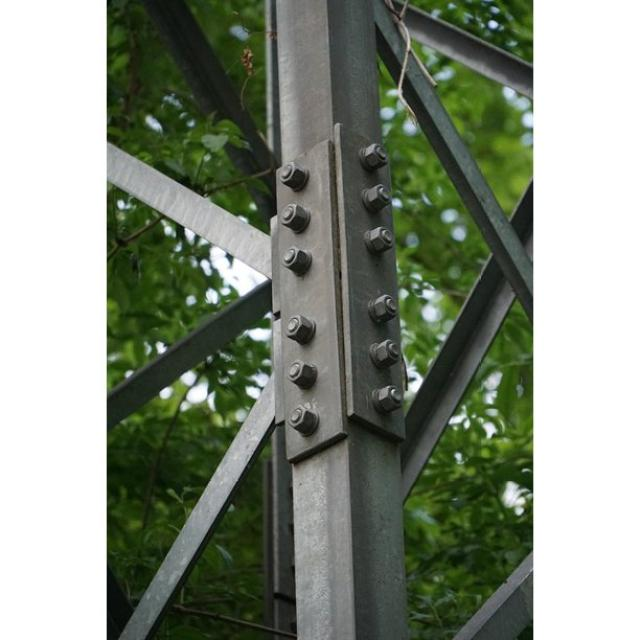bolt nut: (376, 382, 404, 412), (277, 160, 305, 189), (372, 293, 400, 322), (284, 358, 312, 387), (286, 404, 314, 433), (280, 203, 308, 231), (284, 315, 312, 342), (280, 245, 306, 274), (368, 223, 393, 252), (376, 337, 400, 366), (364, 140, 388, 168), (367, 182, 392, 208)
